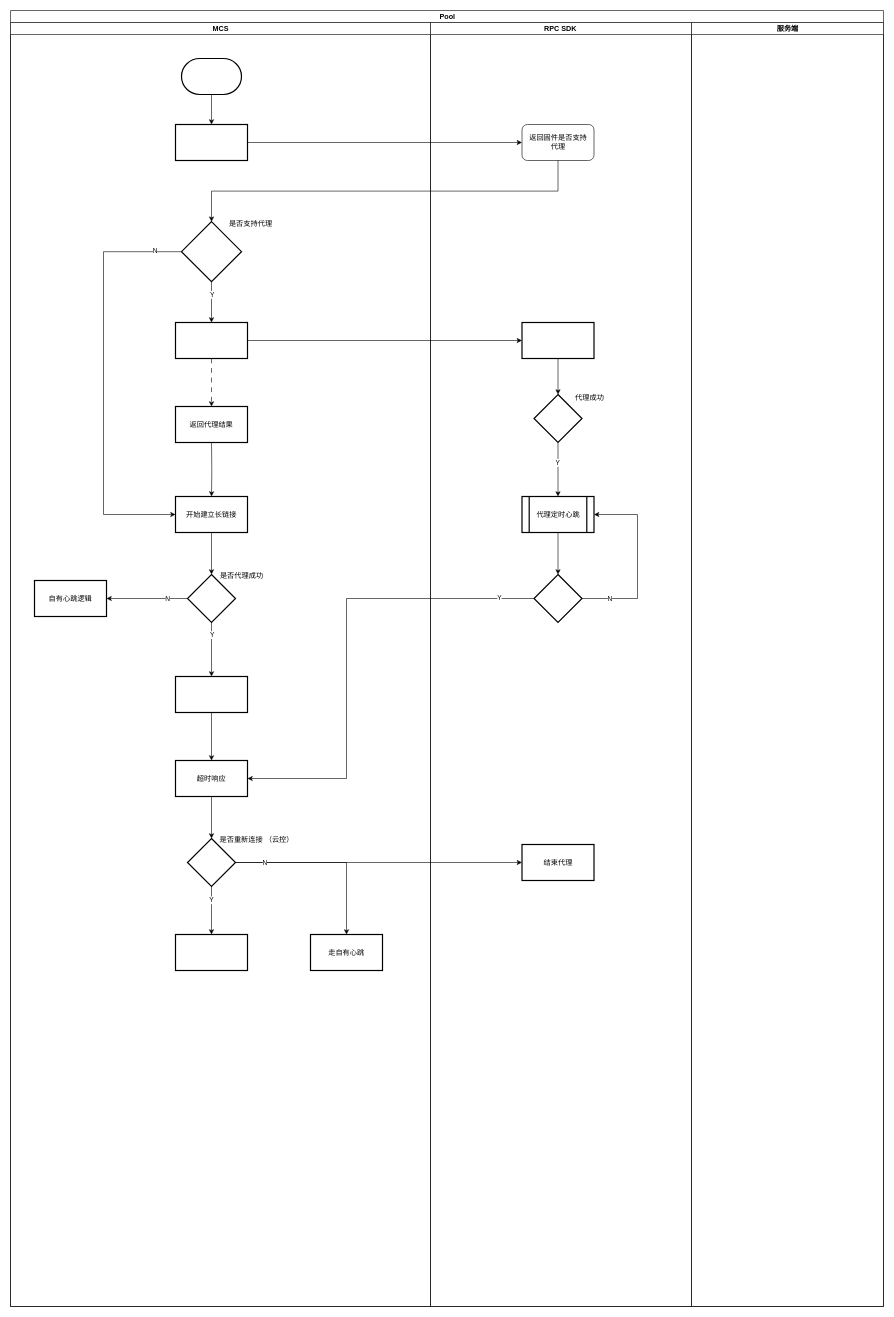
This 894x1317 diagram has some shape labels left out. The centre of each missing label's shape, as x and y in pixels:
"RPC 初始化" goes at (211,142).
"发送代理配置" goes at (211,340).
"心跳超时" goes at (557,598).
"监听响应消息" goes at (211,694).
"设置心跳代理" goes at (557,340).
"重新发起链接" goes at (211,952).
